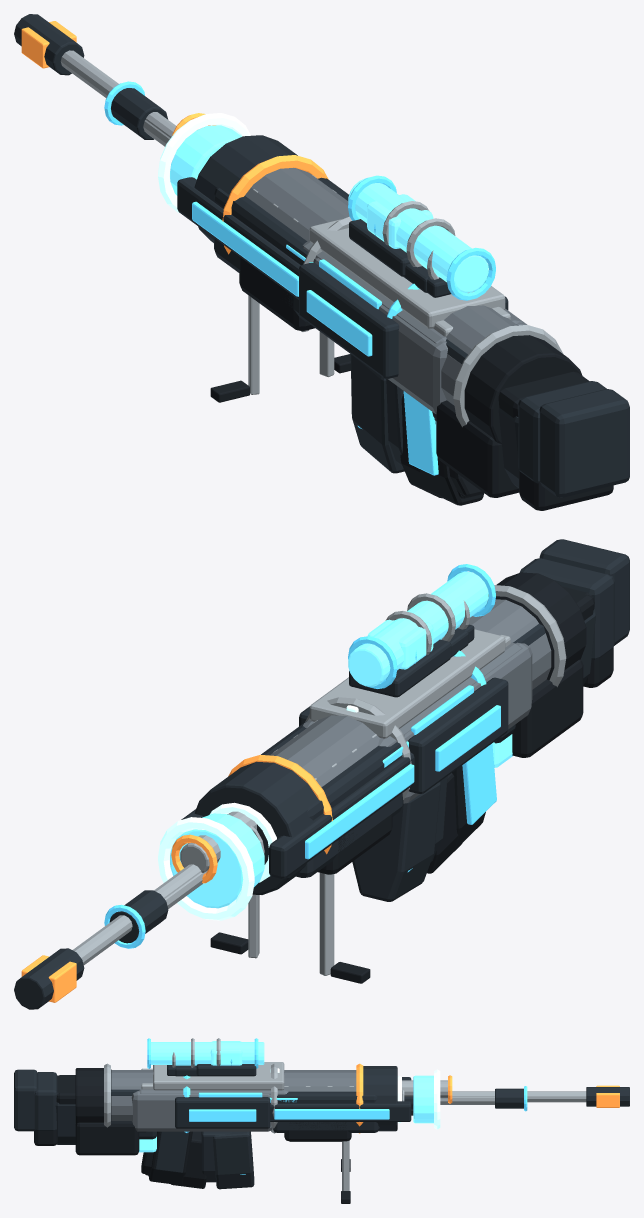
Rendered from zap-world-weapons-49.glb.
The picture shows the model from 3 angles, top to bottom: view 1: azimuth 30°, elevation 25°; view 2: azimuth 150°, elevation 25°; view 3: azimuth 270°, elevation 25°; orthographic projection. The views are drawn at different scales.
Visible parts, largest first — view 1: ZAP_WPN_Rocket, ZAP_WPN_Sniper, ZAP_WPN_Rifle, ZAP_WPN_Plasma, ZAP_WPN_Shotgun, ZAP_WPN_Pistol; view 2: ZAP_WPN_Rocket, ZAP_WPN_Rifle, ZAP_WPN_Sniper, ZAP_WPN_Plasma, ZAP_WPN_Shotgun, ZAP_WPN_Pistol; view 3: ZAP_WPN_Rocket, ZAP_WPN_Rifle, ZAP_WPN_Sniper, ZAP_WPN_Plasma, ZAP_WPN_Shotgun, ZAP_WPN_Pistol.
Part boxes in pixels (box(x1,y1,x2,y2)): ZAP_WPN_Rocket: box(194, 135, 582, 498); ZAP_WPN_Sniper: box(14, 14, 629, 497); ZAP_WPN_Rifle: box(104, 81, 606, 483); ZAP_WPN_Plasma: box(158, 113, 527, 498); ZAP_WPN_Shotgun: box(172, 113, 613, 510); ZAP_WPN_Pistol: box(319, 259, 483, 505); ZAP_WPN_Rocket: box(194, 572, 586, 894); ZAP_WPN_Rifle: box(104, 558, 614, 948); ZAP_WPN_Sniper: box(14, 539, 629, 1009); ZAP_WPN_Plasma: box(158, 623, 545, 920); ZAP_WPN_Shotgun: box(171, 609, 613, 883); ZAP_WPN_Pistol: box(346, 685, 496, 850); ZAP_WPN_Rocket: box(75, 1041, 397, 1188); ZAP_WPN_Rifle: box(34, 1052, 527, 1189); ZAP_WPN_Sniper: box(14, 1038, 629, 1203); ZAP_WPN_Plasma: box(111, 1069, 440, 1176); ZAP_WPN_Shotgun: box(34, 1075, 452, 1174); ZAP_WPN_Pistol: box(149, 1068, 279, 1184).
Size of the model in its own units: 0.48 by 0.8157 by 3.1.
